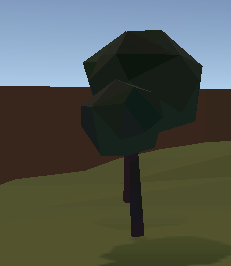tree: (57, 23, 204, 243)
